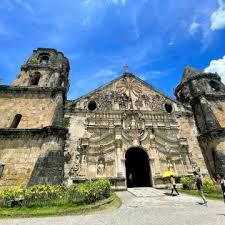miagao_church_miagao_iloilo: (1, 44, 225, 191)
